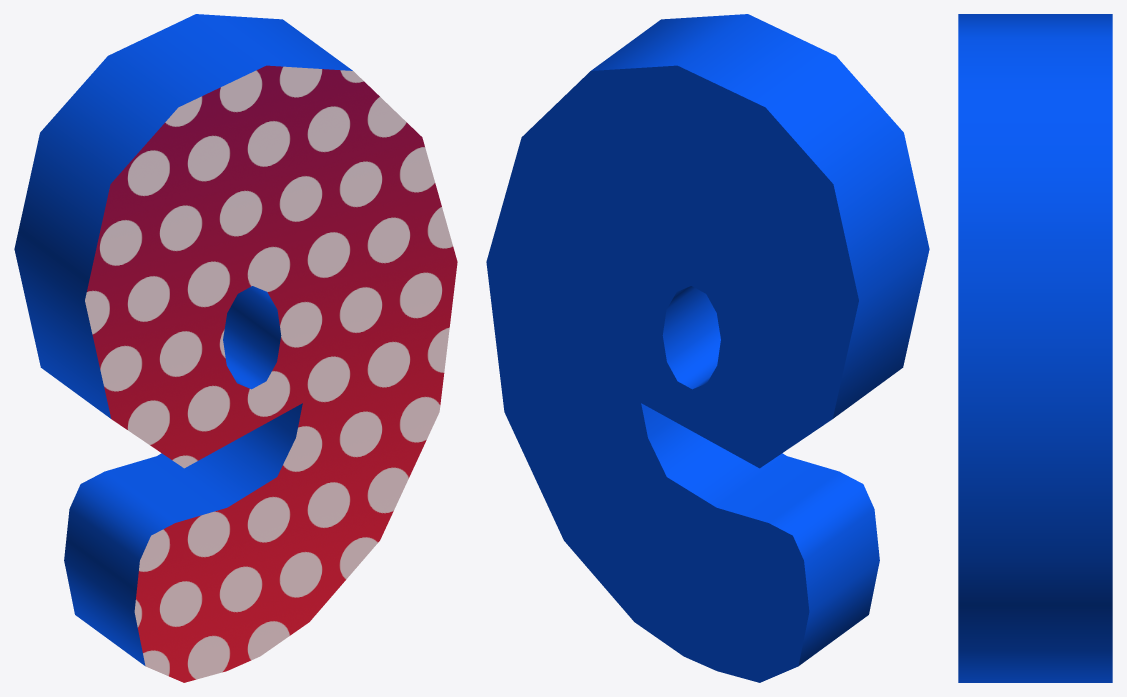
3 renders of one model, left to right at view 1: azimuth 30°, elevation 25°; view 2: azimuth 150°, elevation 25°; view 3: azimuth 270°, elevation 25°, orthographic. The views are drawn at different scales.
Parts seen in each view (by area): view 1: 9; view 2: 9; view 3: 9.
Boxes of the visible parts, x1,y1,x2,y2 form: 9: (14,14,457,682); 9: (486,14,929,682); 9: (958,14,1112,682).
Size of the model in its own units: 61.06 by 93.5 by 20.
2 materials, 1 textured.
